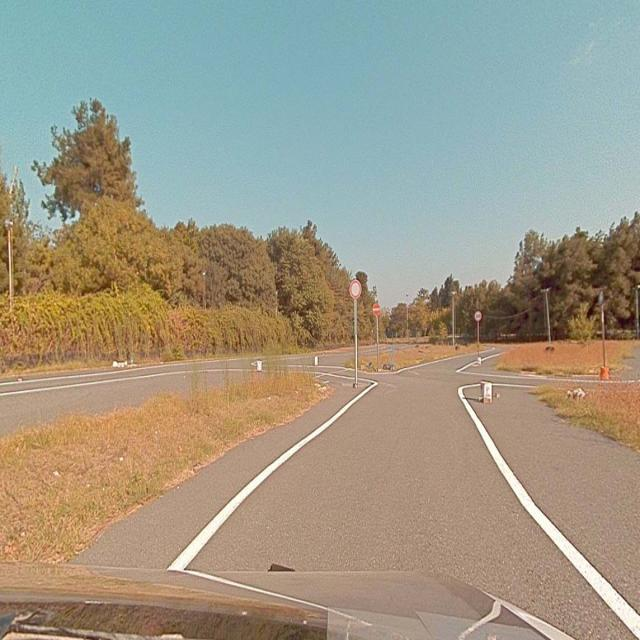girisyok: (372, 303, 380, 316)
